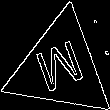M_S: (31, 35, 89, 99)
